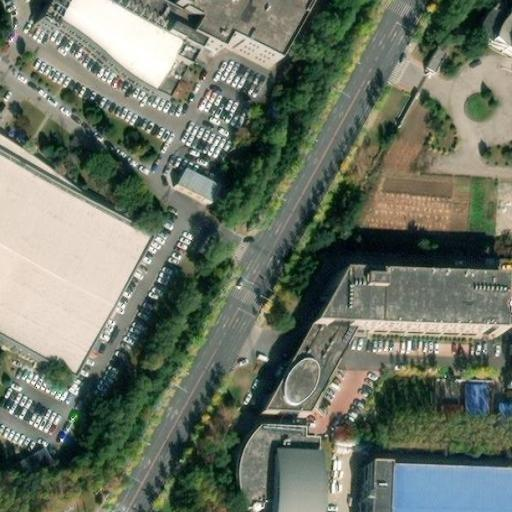building: (33, 0, 196, 112), (315, 265, 504, 333), (175, 0, 314, 71), (266, 323, 361, 413), (240, 422, 326, 512), (392, 457, 512, 512), (95, 0, 200, 55), (275, 447, 325, 512), (465, 380, 512, 421), (475, 7, 512, 56), (176, 166, 221, 203), (15, 441, 57, 477), (370, 457, 394, 512), (427, 38, 452, 70)
